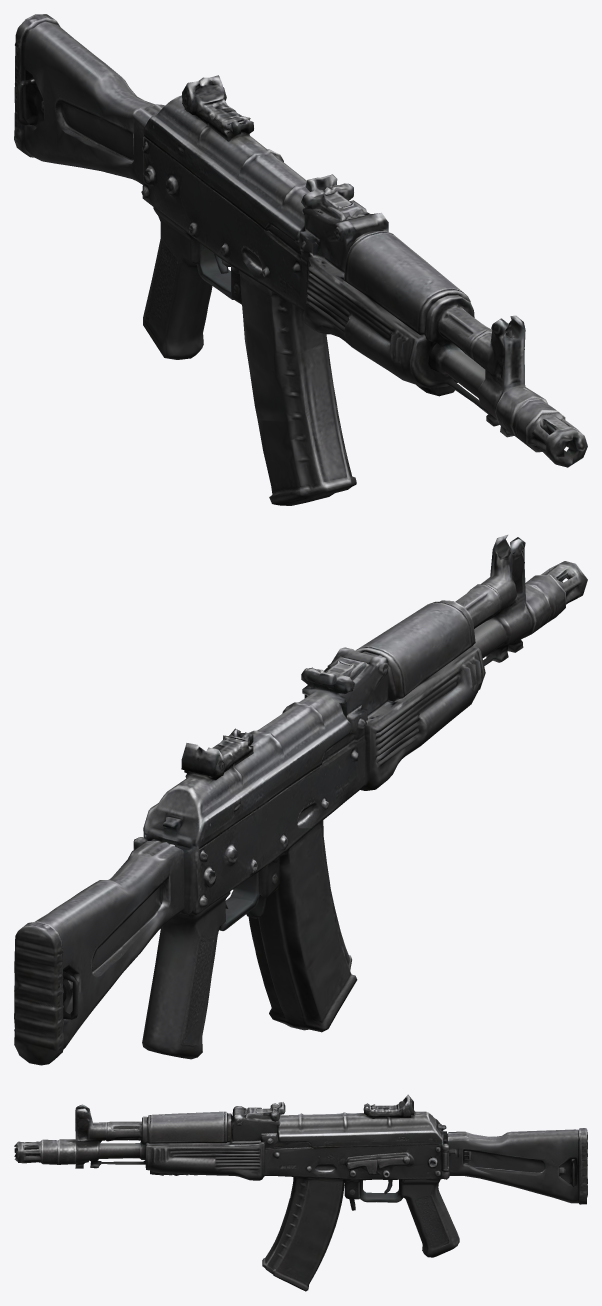
The picture shows the model from 3 angles, top to bottom: view 1: azimuth 30°, elevation 25°; view 2: azimuth 150°, elevation 25°; view 3: azimuth 270°, elevation 25°; orthographic projection. The views are drawn at different scales.
Visible parts, largest first — view 1: tripo_node_49d6f6a4-9e87-4a20-a201-df4853ba206b; view 2: tripo_node_49d6f6a4-9e87-4a20-a201-df4853ba206b; view 3: tripo_node_49d6f6a4-9e87-4a20-a201-df4853ba206b.
Part boxes in pixels (x1=…): tripo_node_49d6f6a4-9e87-4a20-a201-df4853ba206b: x1=14, y1=14, x2=587, y2=505; tripo_node_49d6f6a4-9e87-4a20-a201-df4853ba206b: x1=14, y1=535, x2=587, y2=1065; tripo_node_49d6f6a4-9e87-4a20-a201-df4853ba206b: x1=14, y1=1094, x2=587, y2=1291.
Size of the model in its own units: 0.089 by 0.3546 by 0.9842.
1 material, 1 textured.
